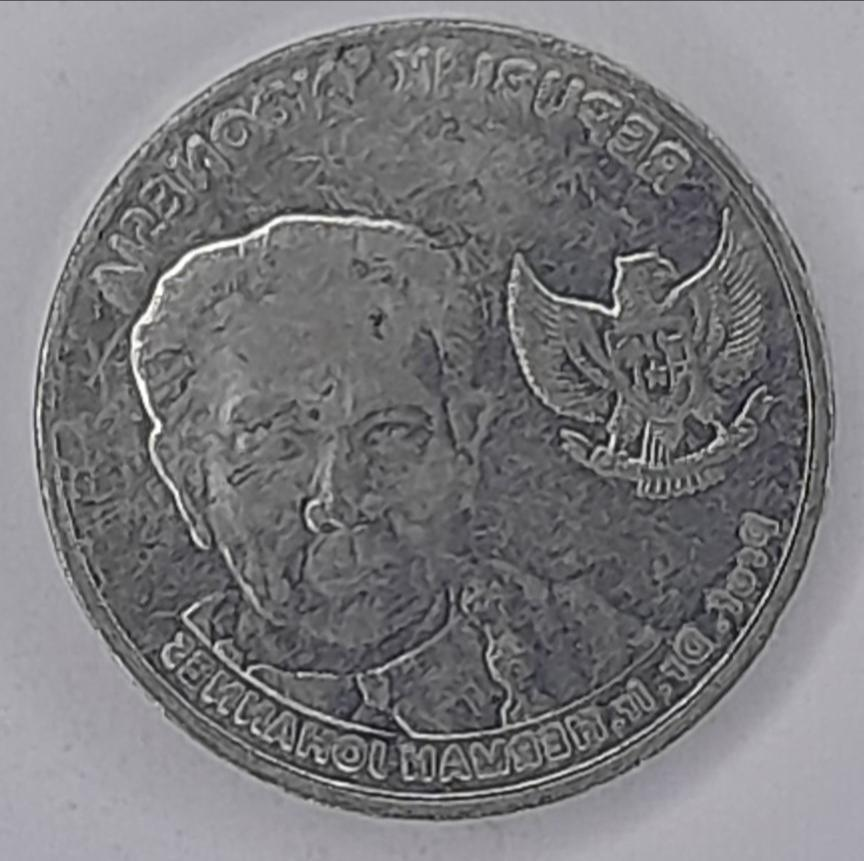coin_100_e2016: (27, 11, 841, 825)
